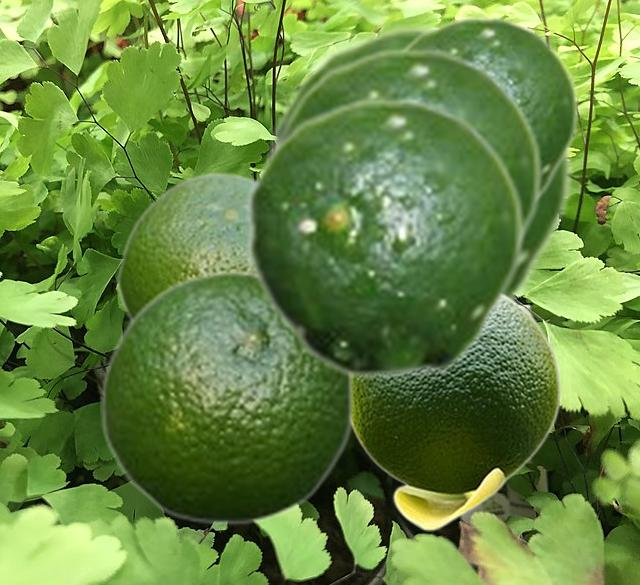calamansi: (270, 24, 573, 302), (245, 96, 525, 380), (100, 270, 355, 525), (274, 46, 543, 247), (353, 294, 560, 530), (403, 15, 579, 201), (115, 170, 254, 322)
